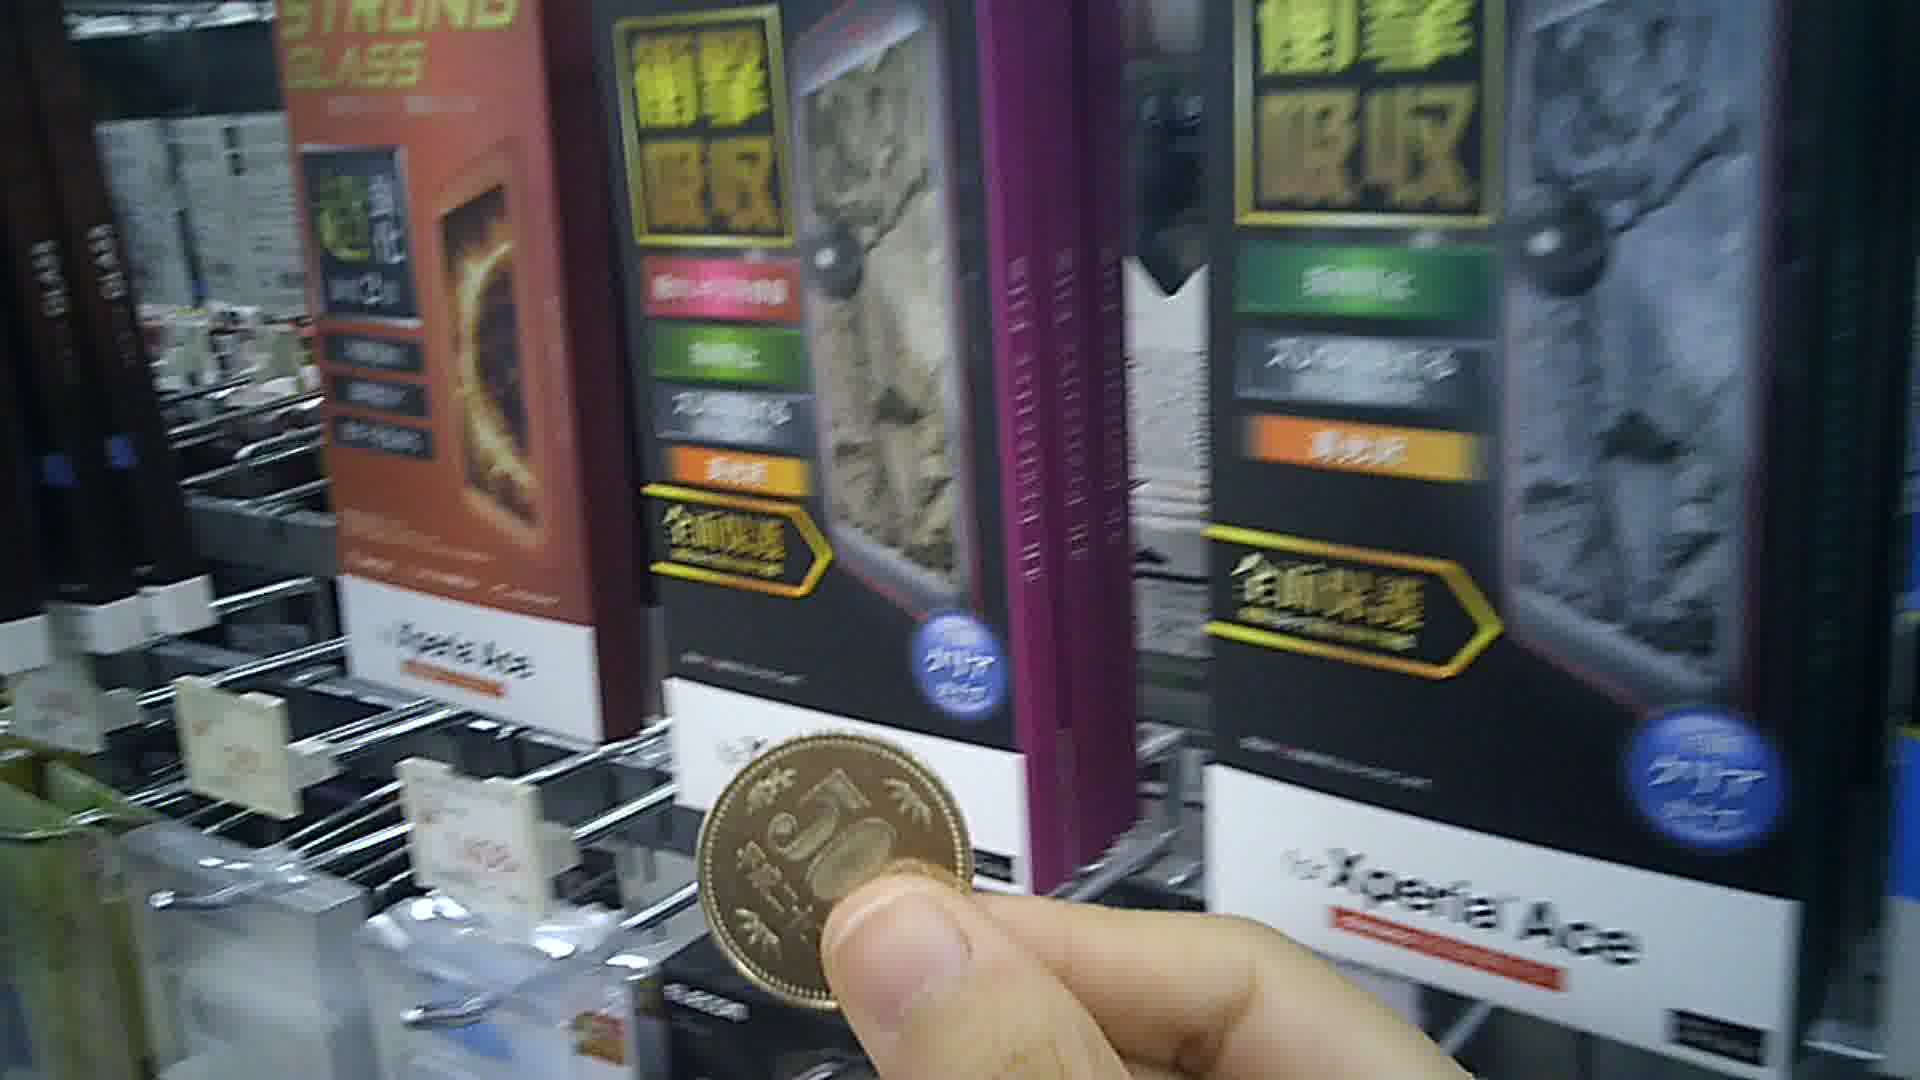500 Yen: (692, 733, 982, 1014)
